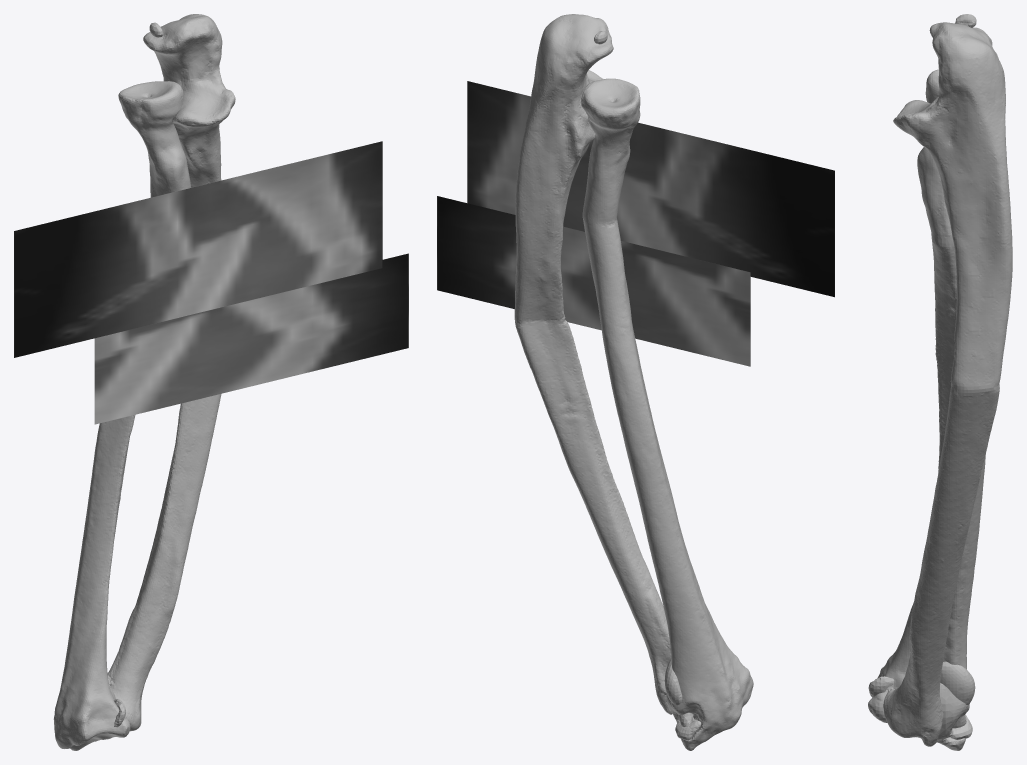
Rendered from fractured_662cefee-703e-4a83-937c-196c4bce4983.glb.
3 renders of one model, left to right at view 1: azimuth 30°, elevation 25°; view 2: azimuth 150°, elevation 25°; view 3: azimuth 270°, elevation 25°, orthographic. The views are drawn at different scales.
Visible parts, largest first — view 1: world; view 2: world; view 3: world.
Boxes of the visible parts, x1=… form: world: x1=14, y1=14, x2=408, y2=750; world: x1=437, y1=14, x2=834, y2=750; world: x1=868, y1=14, x2=1012, y2=750.
Size of the model in its own units: 0.58 by 0.9861 by 0.1698.
Materials: 2 (2 with a texture image).
